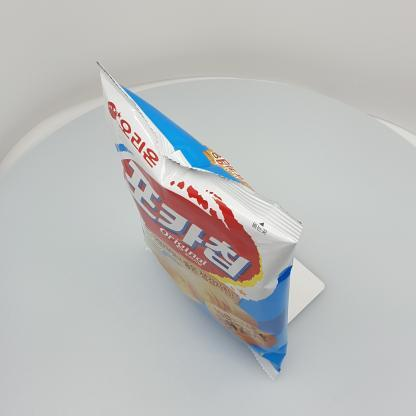Plastic Packaging: (87, 45, 347, 391)
